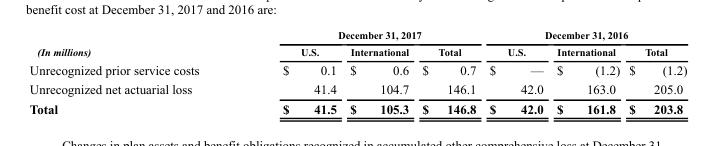table: (28, 29, 686, 115)
table column: (28, 29, 240, 115), (240, 29, 342, 115), (549, 29, 623, 115), (342, 29, 414, 115), (414, 29, 482, 115), (482, 29, 549, 115), (623, 29, 686, 115)
table column header: (28, 29, 686, 59)
table row: (28, 59, 686, 79), (28, 79, 686, 98), (28, 98, 686, 115), (28, 43, 686, 59), (28, 29, 686, 43)
table spanning cell: (28, 29, 240, 59), (240, 29, 482, 43), (482, 29, 686, 43)
